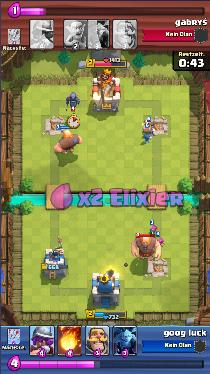ally_archer: (149, 223, 157, 236), (156, 237, 164, 247)
ally_giant: (129, 234, 161, 261), (53, 129, 82, 156)
ally_wallbreaker: (141, 125, 155, 142), (143, 118, 154, 132)
enemy_mini_pekka: (64, 92, 81, 107)
